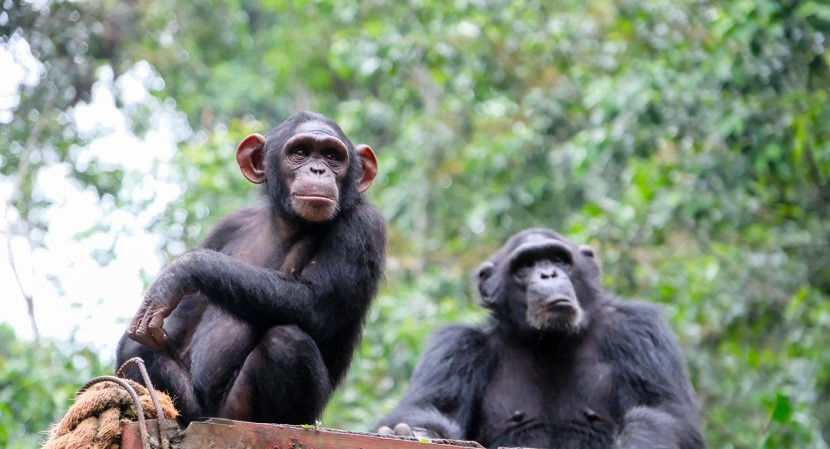Chimpanzee: (119, 109, 402, 410), (385, 228, 698, 447)
